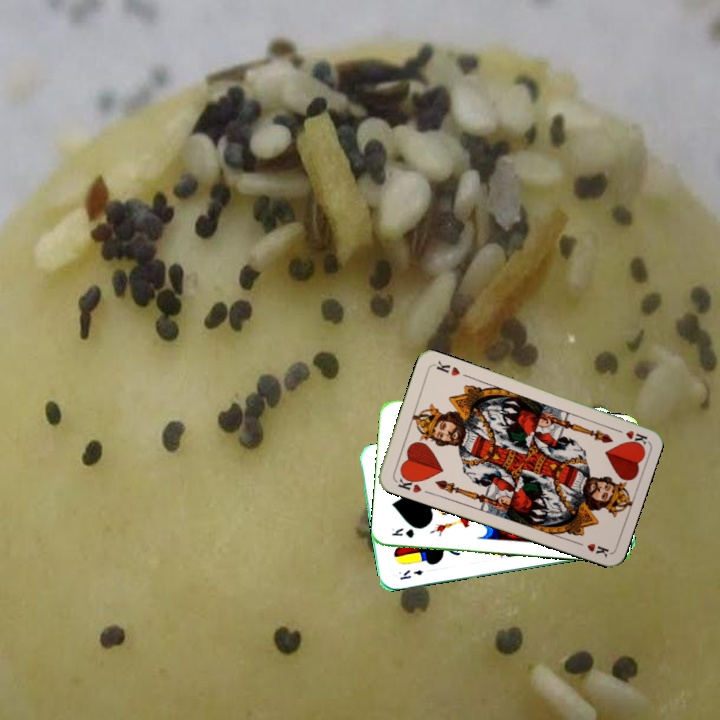EK: (396, 566, 426, 582)
GK: (388, 524, 416, 540)
HK: (608, 424, 649, 446), (394, 471, 424, 495)
